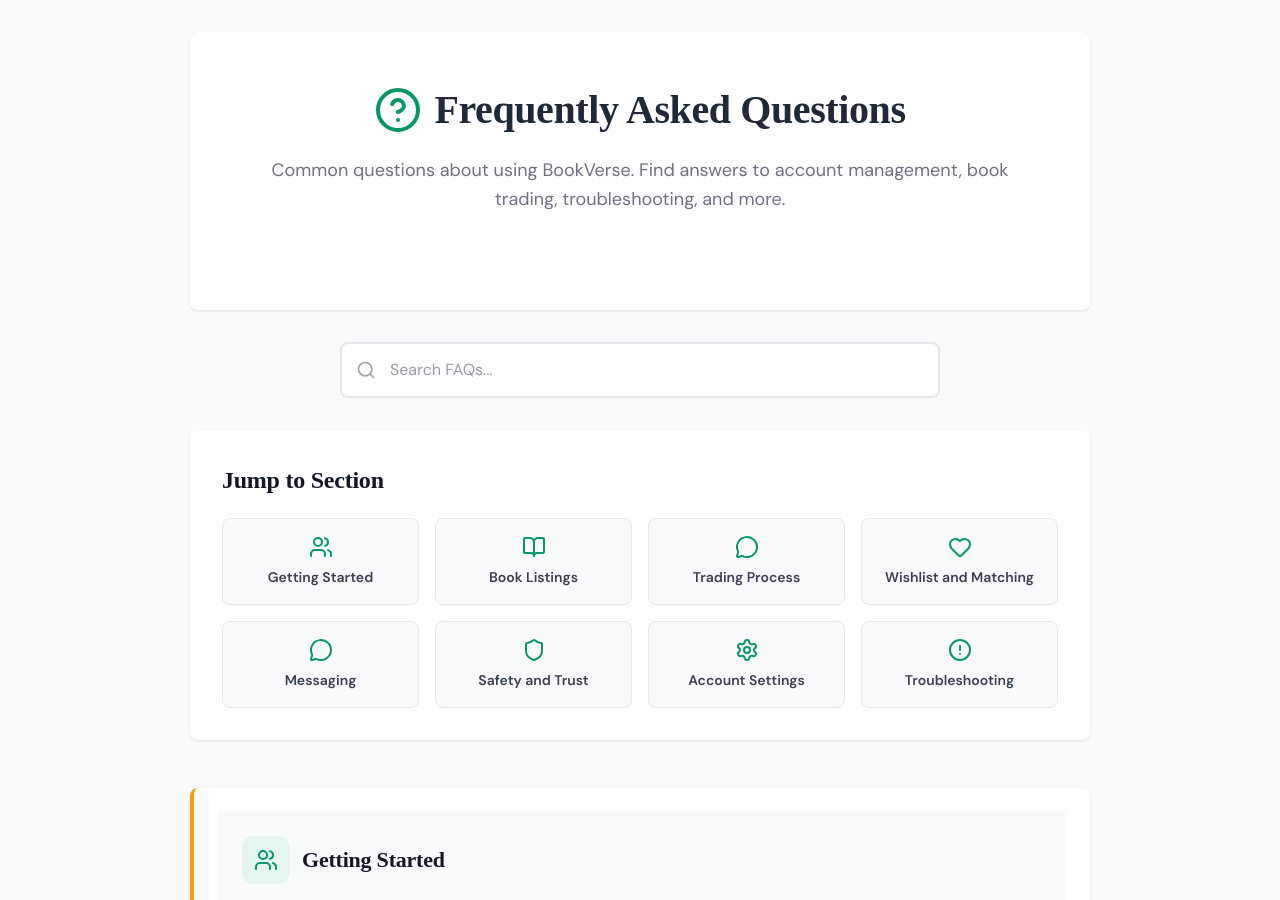
Scenario: FAQPage › shows no results message when search has no matches
# Search for something that doesn't exist
Type "xyzabc123nonexistent" into the field with placeholder "Search FAQs...".
click(640, 370); type("xyzabc123nonexistent")  # box left=340, top=342, right=940, bottom=398
(page scrolled)
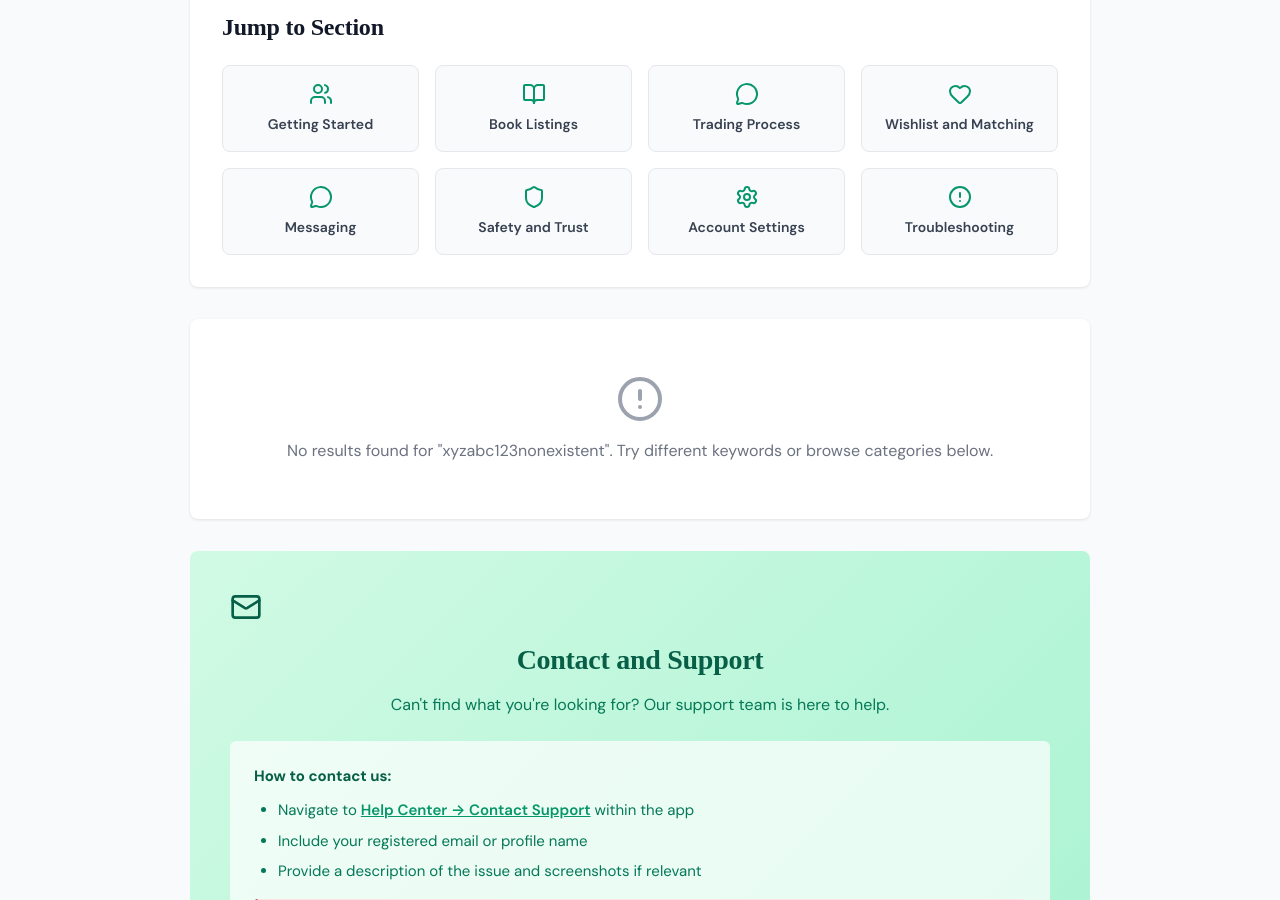
Check: the text "No results found for" is shown, box left=287, top=440, right=442, bottom=461
